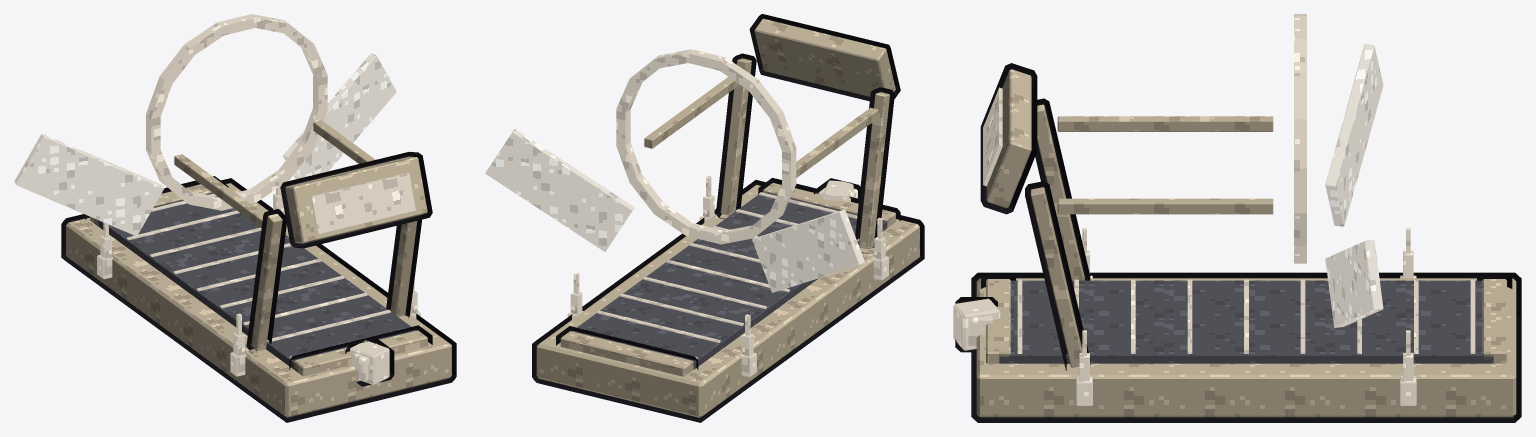
The model's file is treadmill_12.glb.
The picture shows the model from 3 angles, left to right: view 1: azimuth 30°, elevation 25°; view 2: azimuth 150°, elevation 25°; view 3: azimuth 270°, elevation 25°; orthographic projection. The views are drawn at different scales.
Visible parts, largest first — view 1: model; view 2: model; view 3: model.
Boxes of the visible parts, box(x1,y1,x2,y2) form: model: box(14, 14, 456, 422); model: box(485, 14, 924, 422); model: box(953, 14, 1521, 422).
Bounding box in the file's own units: 2.74 × 1.96 × 2.91.
5 materials, 4 textured.
